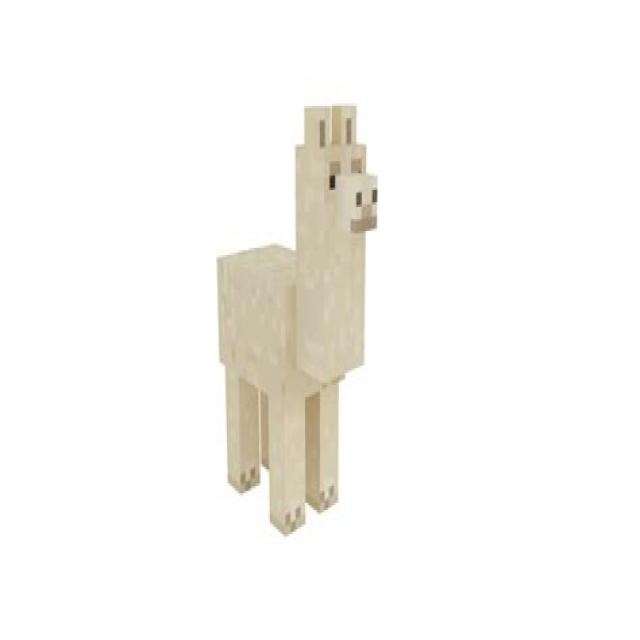Llama: (215, 101, 379, 541)
